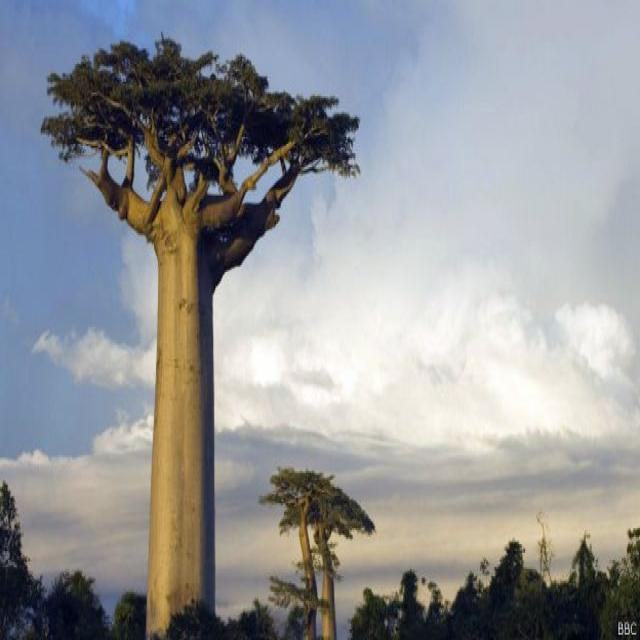baobab: (32, 21, 372, 635), (258, 451, 379, 640)
